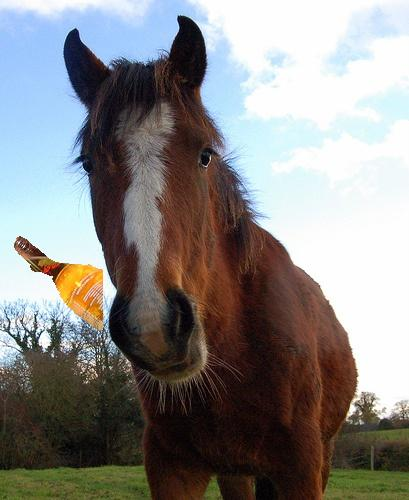tampered: (15, 237, 103, 330)
